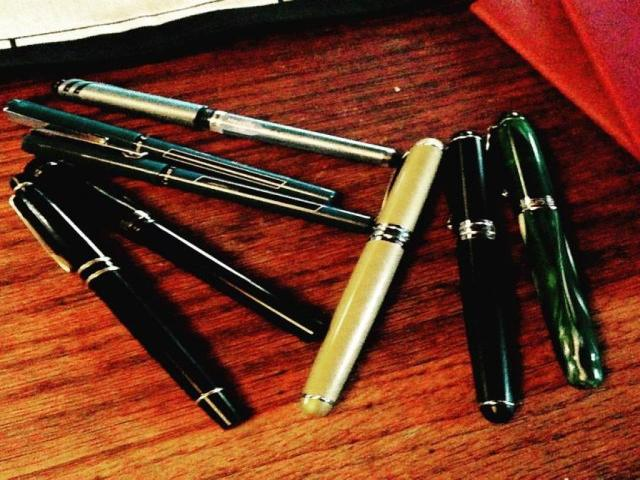PEN: (0, 160, 278, 454), (0, 81, 388, 265), (14, 40, 415, 195), (324, 119, 438, 437), (496, 107, 619, 393), (442, 128, 522, 423)
